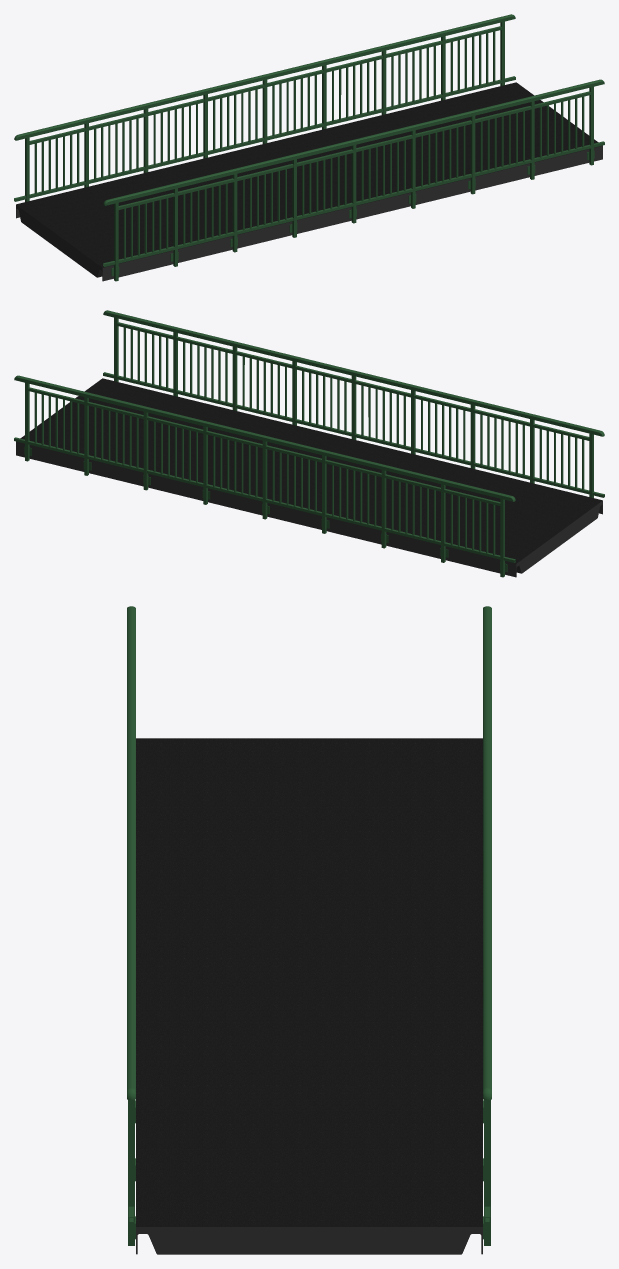
The model's file is Composite_Fiber.glb.
3 views of the same model, one above another, from view 1: azimuth 30°, elevation 25°; view 2: azimuth 150°, elevation 25°; view 3: azimuth 270°, elevation 25° (orthographic). The views are drawn at different scales.
Bounding box in the file's own units: 10 × 1.58 × 3.16.
Materials: 3 (1 with a texture image).
